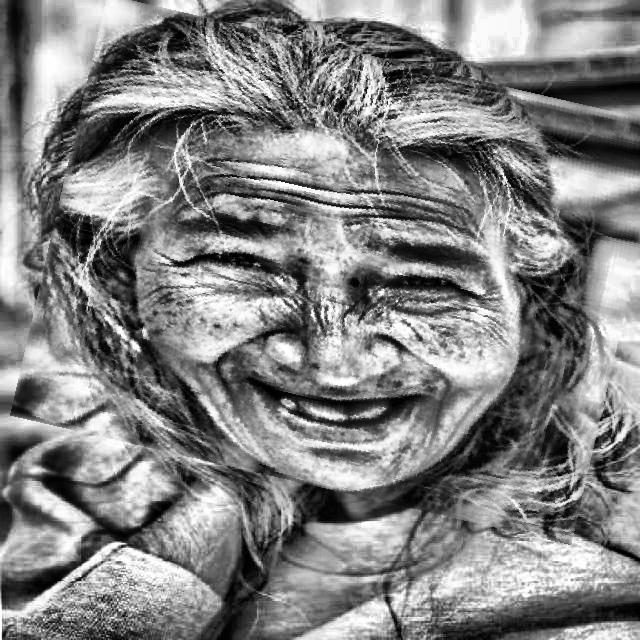happy: (30, 24, 640, 515)
